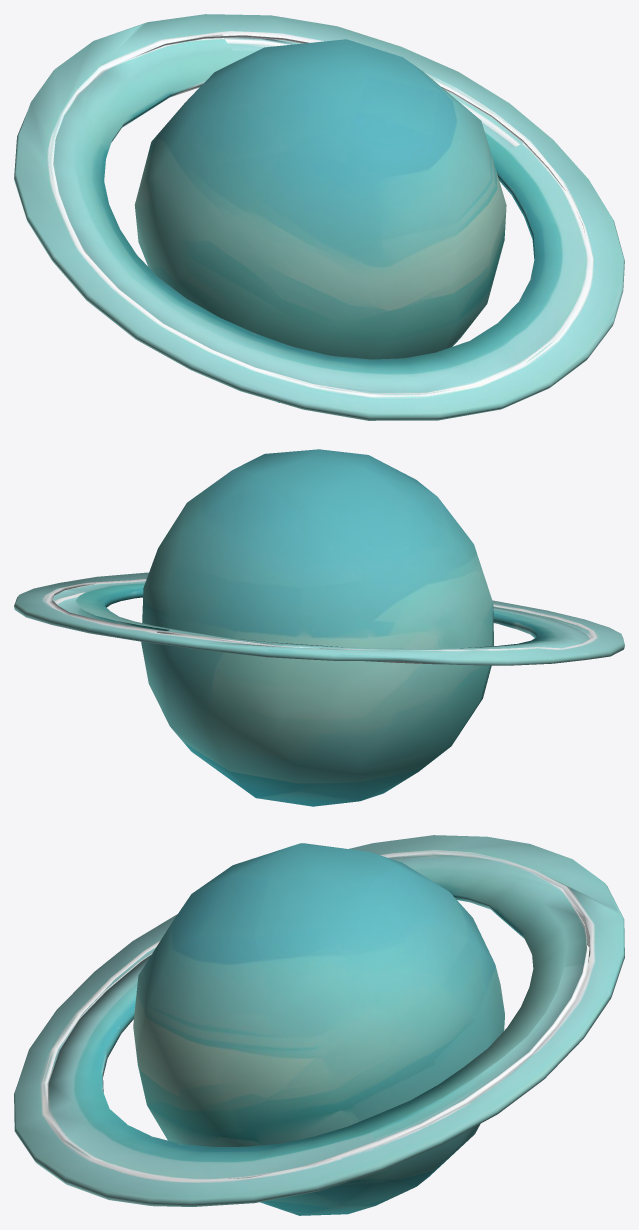
Rendered from uranus_planet_20260525.glb.
The picture shows the model from 3 angles, top to bottom: view 1: azimuth 30°, elevation 25°; view 2: azimuth 150°, elevation 25°; view 3: azimuth 270°, elevation 25°; orthographic projection. The views are drawn at different scales.
Parts seen in each view (by area): view 1: material; view 2: material; view 3: material.
Boxes of the visible parts, x1,y1,x2,y2 form: material: (14,14,624,420); material: (14,449,624,806); material: (14,835,624,1215).
Size of the model in its own units: 1.9 by 1.12 by 1.82.
Materials: 1 (1 with a texture image).
